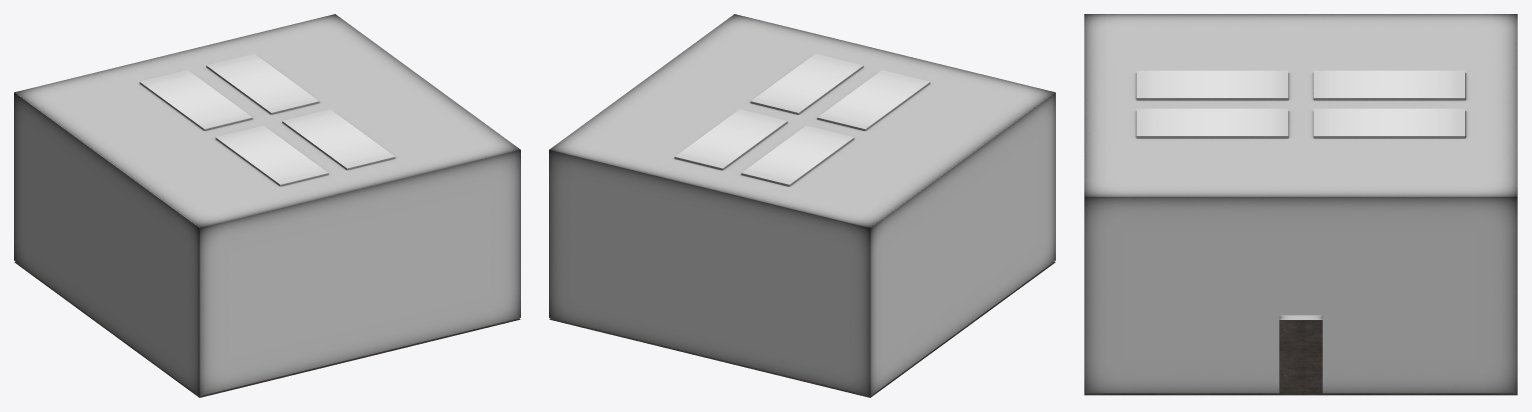
File: whiteCube_v3c.dae
3 renders of one model, left to right at view 1: azimuth 30°, elevation 25°; view 2: azimuth 150°, elevation 25°; view 3: azimuth 270°, elevation 25°, orthographic. The views are drawn at different scales.
Parts seen in each view (by area): view 1: 立方体.2, 天井, ライト, 床; view 2: 立方体.2, 天井, ライト, 床; view 3: 立方体.2, 天井, ライト, 床.
Boxes of the visible parts, x1,y1,x2,y2 form: 立方体.2: [14, 92, 520, 396]; 天井: [14, 14, 520, 227]; ライト: [139, 53, 395, 186]; 床: [14, 262, 520, 397]; 立方体.2: [549, 92, 1055, 396]; 天井: [549, 14, 1055, 227]; ライト: [674, 53, 930, 186]; 床: [549, 262, 1055, 397]; 立方体.2: [1084, 197, 1517, 393]; 天井: [1084, 14, 1517, 196]; ライト: [1136, 70, 1465, 138]; 床: [1084, 320, 1517, 395].
Bounding box in the file's own units: 1025 × 510 × 1000.
Materials: 2 (2 with a texture image).
